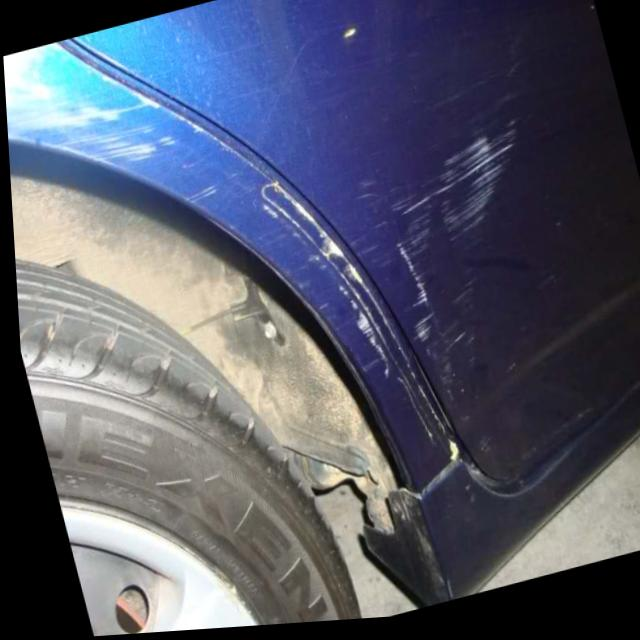Scratch: (255, 180, 453, 448), (388, 119, 524, 357)
